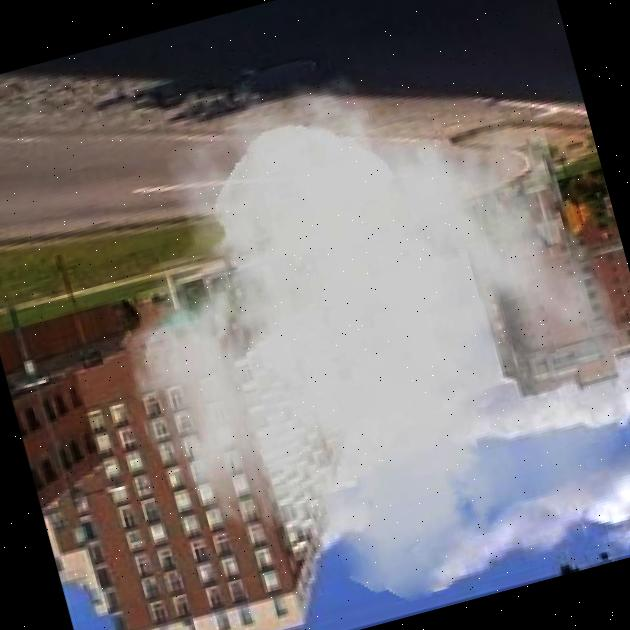smoke: (55, 0, 630, 630)
